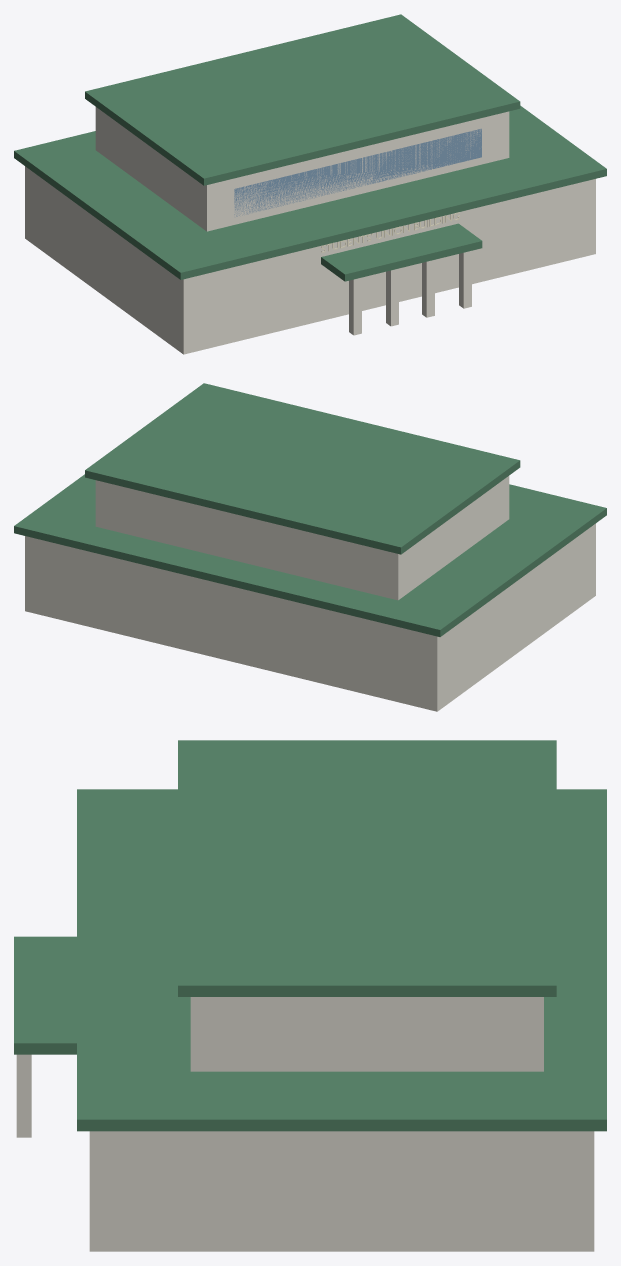
File: EN_StudentUnion_Placeholder.glb
3 renders of one model, top to bottom at view 1: azimuth 30°, elevation 25°; view 2: azimuth 150°, elevation 25°; view 3: azimuth 270°, elevation 25°, orthographic. The views are drawn at different scales.
Visible parts, largest first — view 1: EN_StudentUnion_Placeholder; view 2: EN_StudentUnion_Placeholder; view 3: EN_StudentUnion_Placeholder.
Boxes of the visible parts, left/top/right/bottom form: EN_StudentUnion_Placeholder: left=14, top=14, right=606, bottom=354; EN_StudentUnion_Placeholder: left=14, top=383, right=606, bottom=711; EN_StudentUnion_Placeholder: left=14, top=740, right=606, bottom=1251.
Bounding box in the file's own units: 31 × 10 × 23.5.
